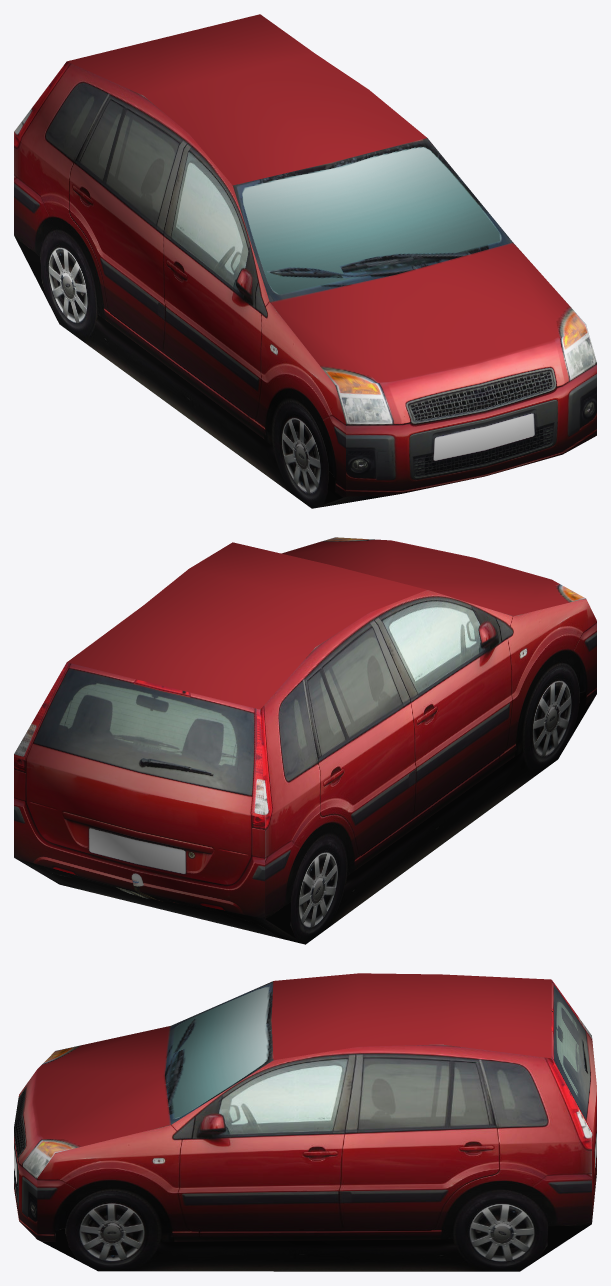
The model's file is FuzzyRed.fbx.
3 views of the same model, one above another, from view 1: azimuth 30°, elevation 25°; view 2: azimuth 150°, elevation 25°; view 3: azimuth 270°, elevation 25° (orthographic). The views are drawn at different scales.
Visible parts, largest first — view 1: FuzzyRed; view 2: FuzzyRed; view 3: FuzzyRed.
Boxes of the visible parts, x1,y1,x2,y2 form: FuzzyRed: (14, 14, 596, 508); FuzzyRed: (14, 537, 596, 944); FuzzyRed: (14, 973, 596, 1271).
Bounding box in the file's own units: 162 × 157 × 391.
Materials: 1 (1 with a texture image).
